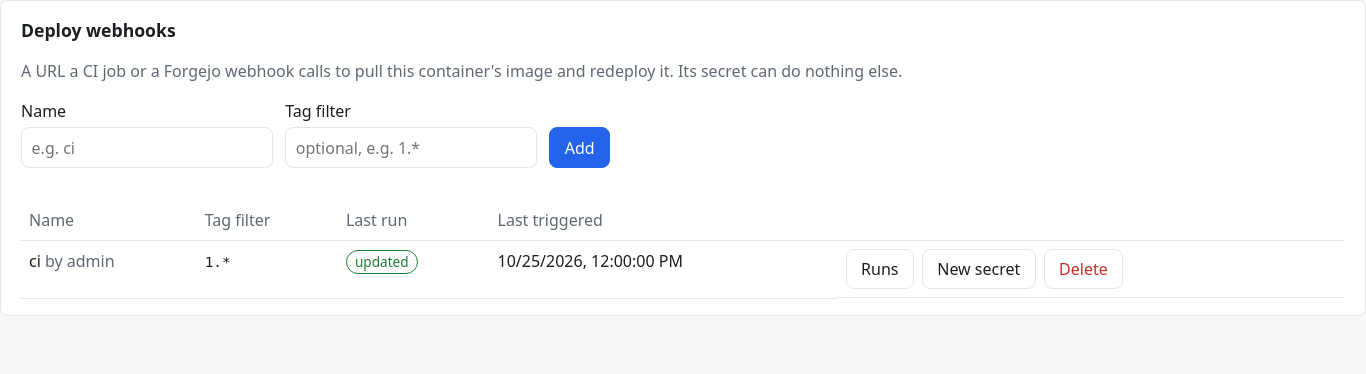
Scenario: WebhooksCard › shows why the runs failed to load
Click the button "Runs".
click(880, 269)  # box [846,249,914,289]
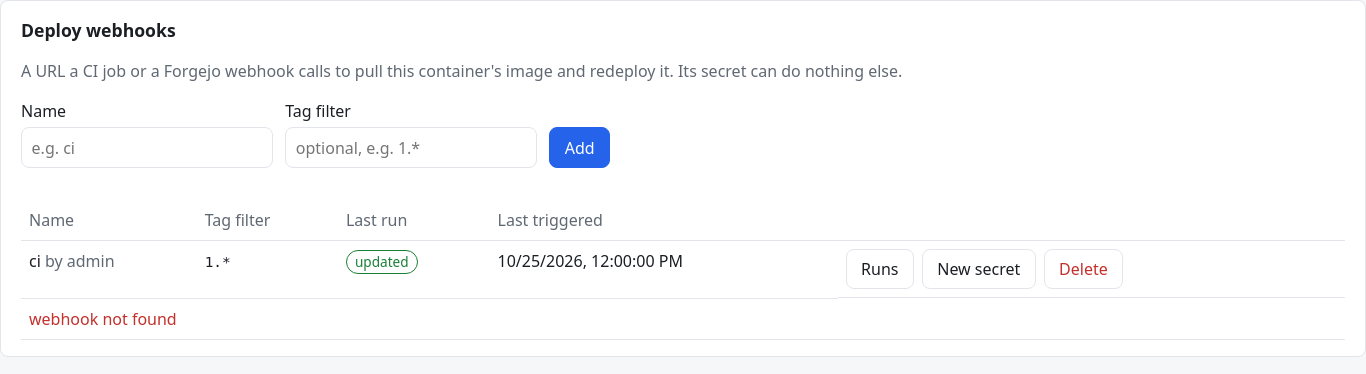
Expected: the message "webhook not found" is shown, [29,308,177,330]
